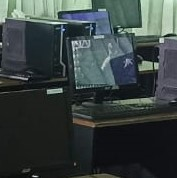monitor: (1, 17, 95, 80), (66, 33, 147, 101)
